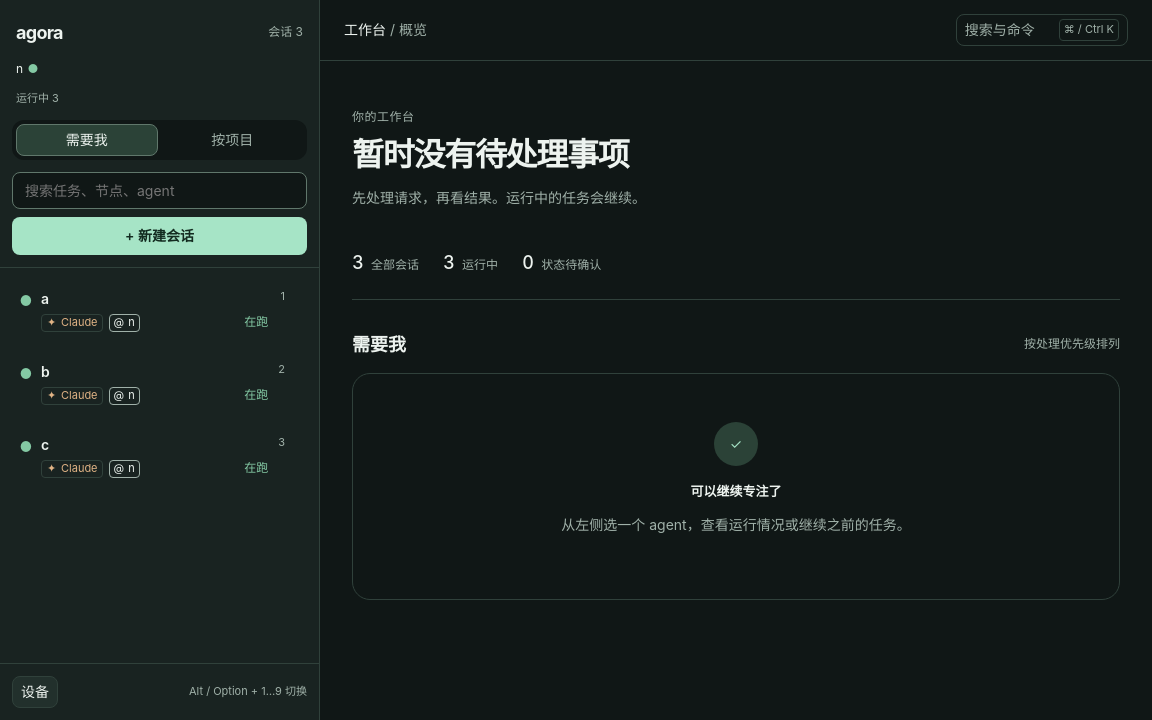
Workspace · 重排稳定（A51，agora-4yr.4） › while the pointer is over the sidebar a status change does not reorder rows but updates the symbol (A51)
Hover over the element with class "sidebar" at (160, 360), box [0,0,320,719]
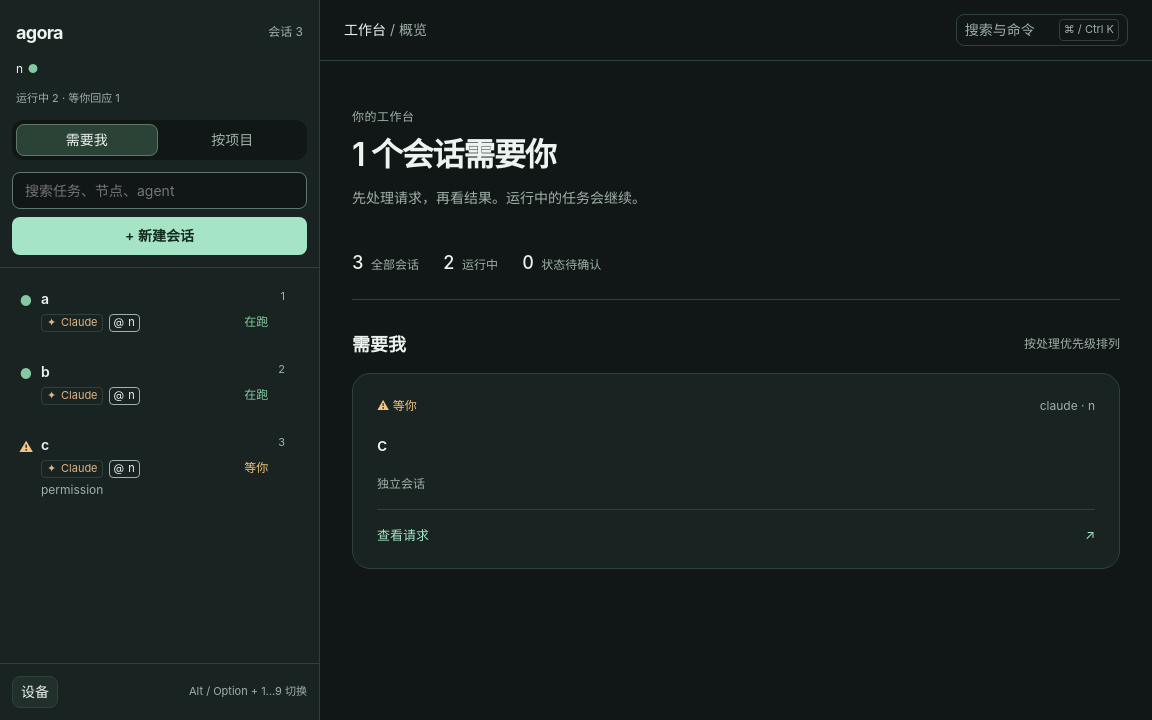
Now the text with class "dot" reads "⚠", box [19,438,33,455]
Now the text with test id "counts" reads "运行中 2 · 等你回应 1", box [16,91,120,105]
